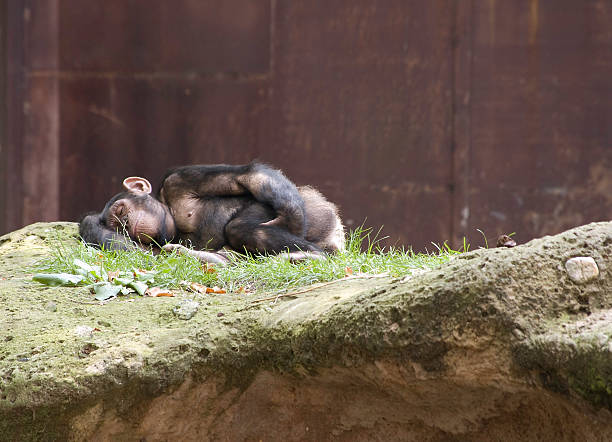chimpanzee: (102, 168, 185, 256)
